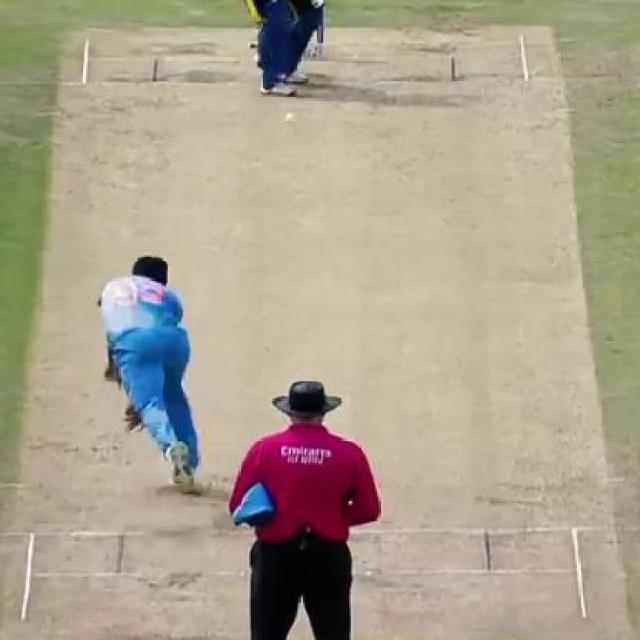Cricket ball: (282, 109, 299, 127)
